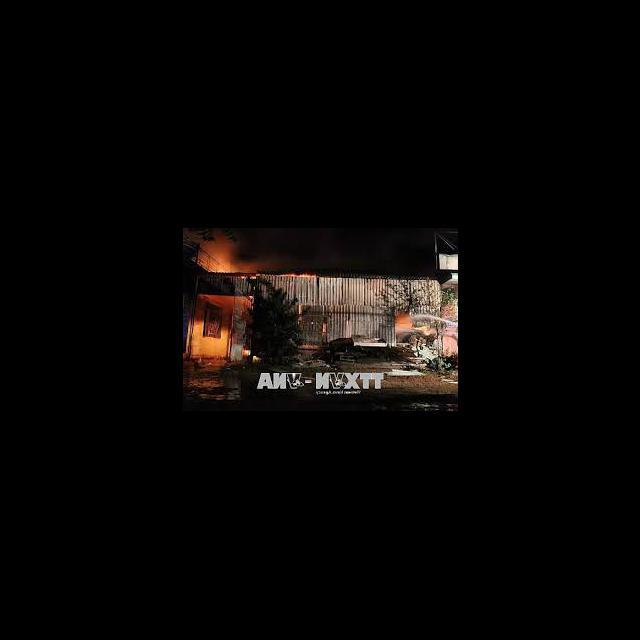Fire: (280, 272, 316, 278), (396, 314, 410, 328), (208, 267, 232, 273)
